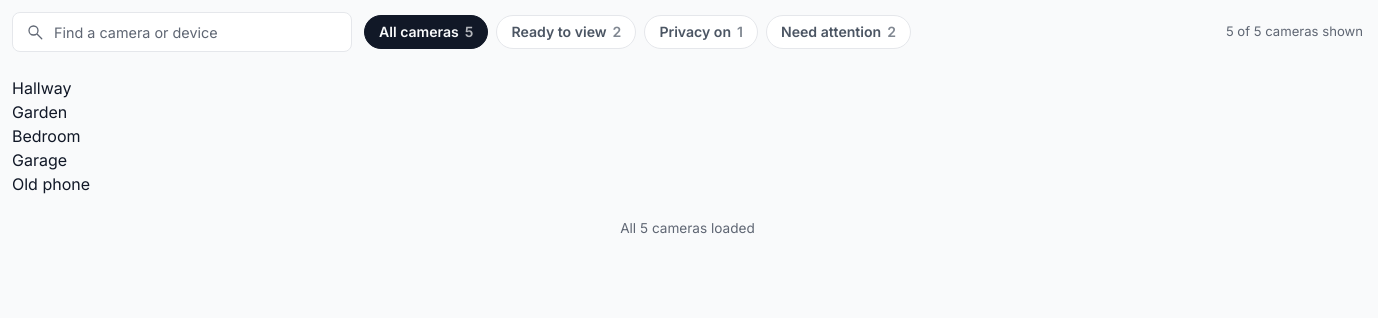
Test: camera browsing › combines query and status and can clear both from the empty result
Type "Hallway" into the search field at {"x": 196, "y": 32}, box [54,13,338,51]
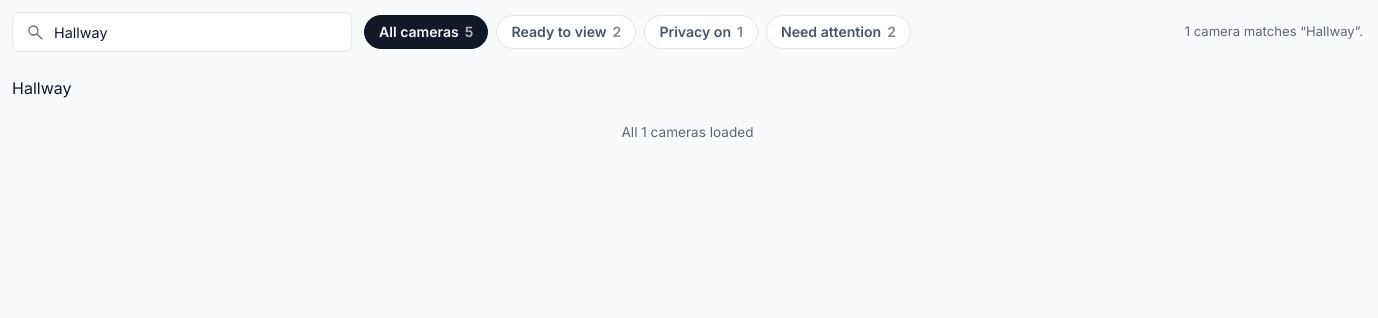
Click the radio button labelled "Privacy on" at {"x": 701, "y": 32}, box [644,15,758,49]
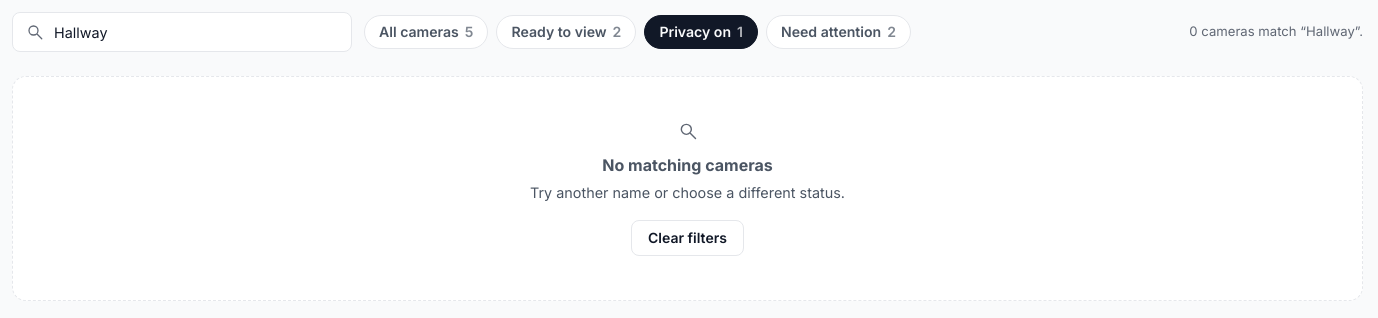
Expected: the heading "No matching cameras" is shown, [602,153,773,177]
Click the button "Clear filters" at {"x": 687, "y": 238}, box [631,220,744,256]
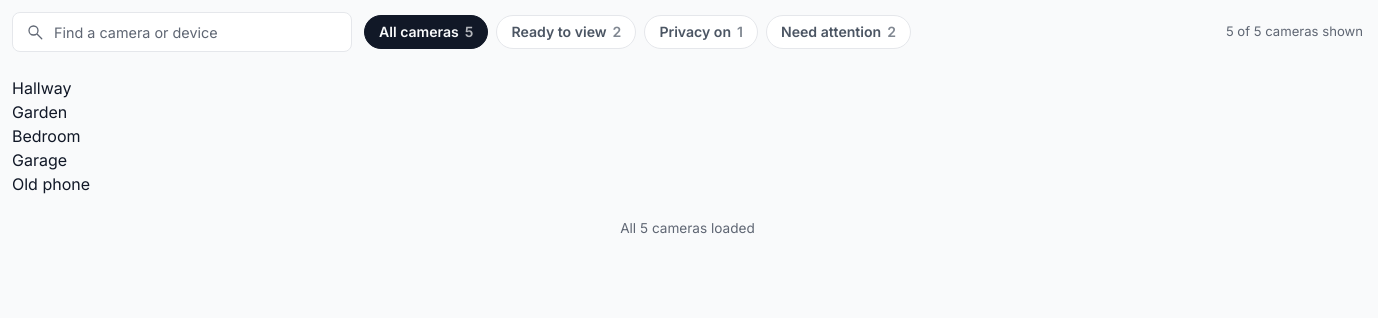
Expected: the search field is empty, [54,13,338,51]
Expected: the number of list items is 5, [12,78,72,98]; [12,102,67,122]; [12,126,81,146]; [12,150,67,170]; [12,174,90,194]
